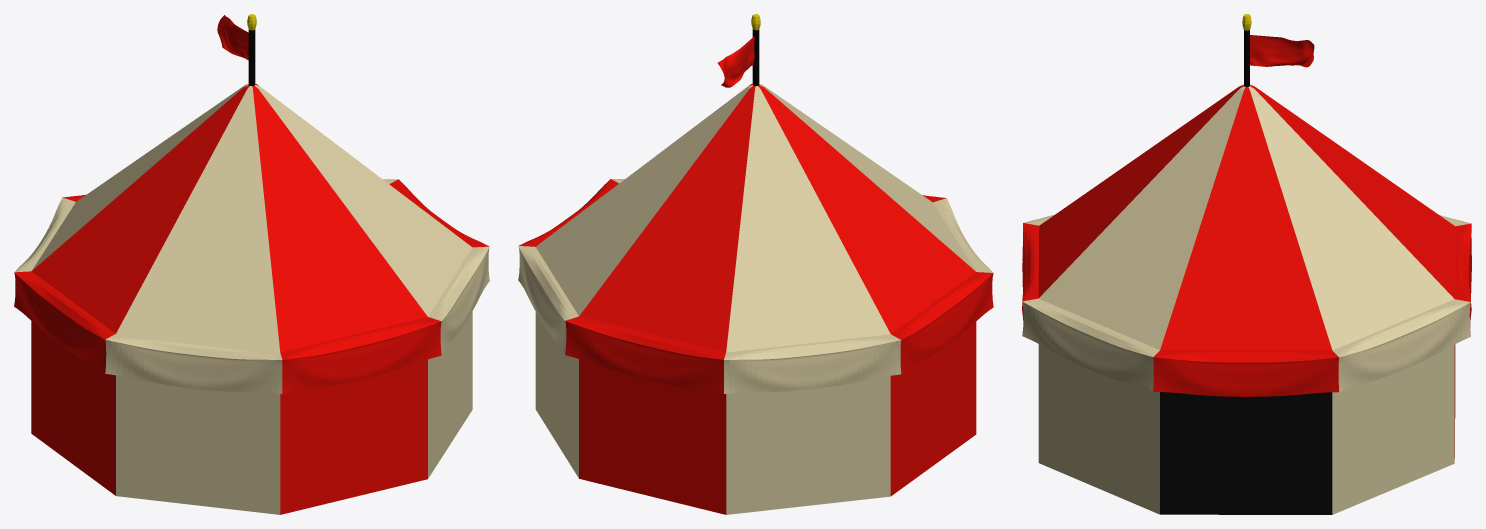
The model's file is carnival tent again.fbx.
3 views of the same model, side by side, from view 1: azimuth 30°, elevation 25°; view 2: azimuth 150°, elevation 25°; view 3: azimuth 270°, elevation 25° (orthographic).
Parts seen in each view (by area): view 1: Circle, Plane; view 2: Circle, Plane; view 3: Circle, Plane.
Part boxes in pixels (bbox=[...]): Circle: bbox=[14, 14, 489, 514]; Plane: bbox=[217, 15, 248, 60]; Circle: bbox=[518, 14, 993, 514]; Plane: bbox=[717, 36, 754, 87]; Circle: bbox=[1022, 14, 1471, 514]; Plane: bbox=[1250, 35, 1314, 67].
Size of the model in its own units: 15094 by 15236 by 15094.
